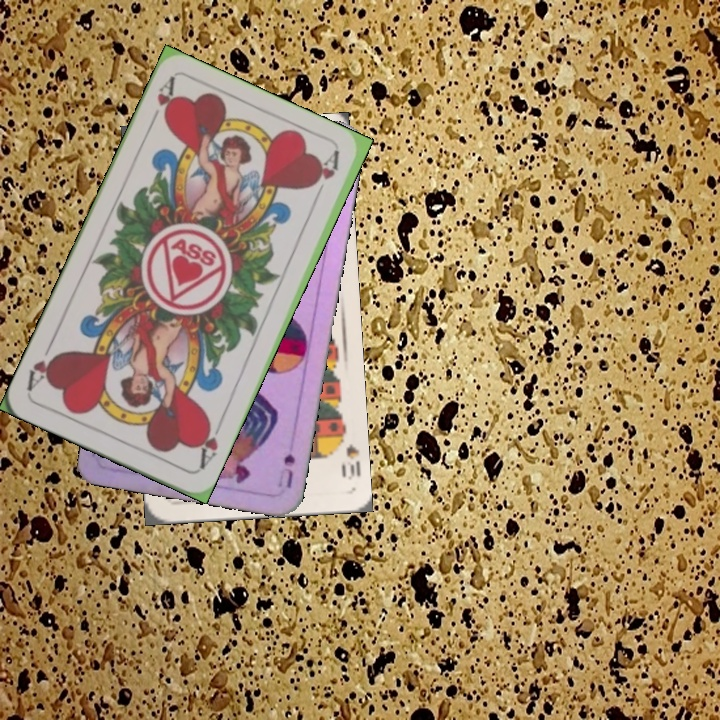HA: (145, 74, 179, 131), (193, 416, 225, 472)
S10: (333, 428, 362, 483)
SU: (273, 450, 298, 491)
